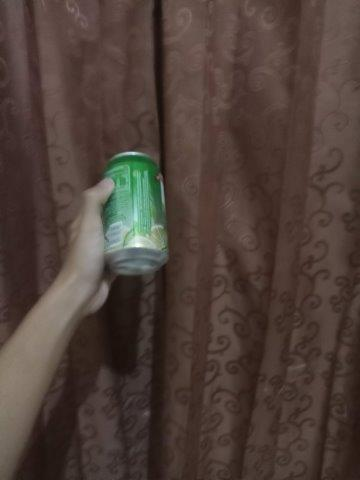kaleng: (103, 151, 169, 275)
